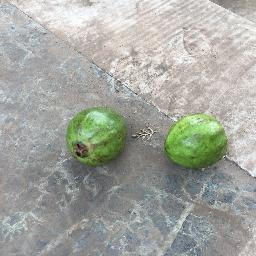Good_guava: (165, 112, 228, 172), (67, 105, 128, 166)
